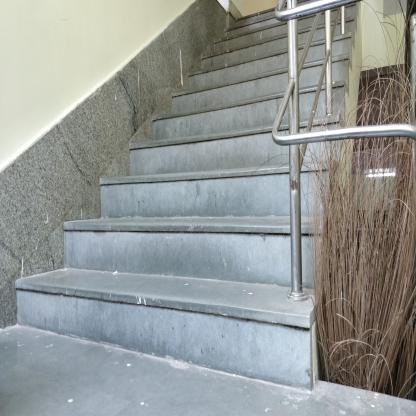stairs: (153, 109, 272, 391)
